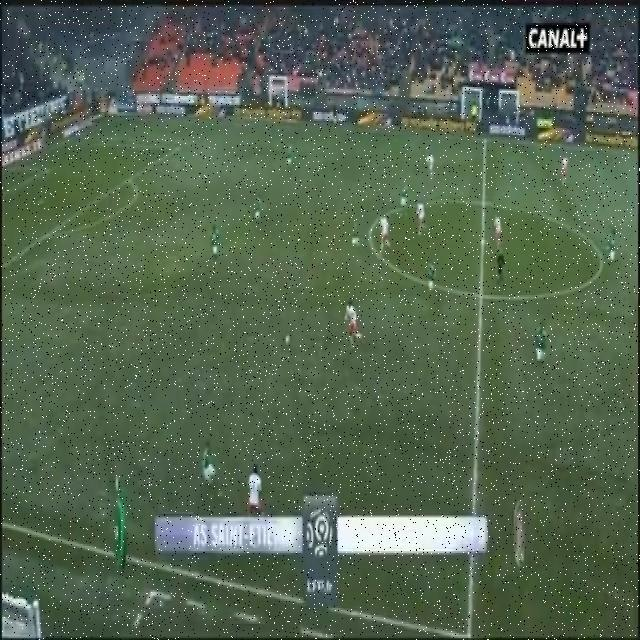ball: (278, 331, 298, 368)
player: (339, 288, 380, 378), (600, 199, 630, 303), (202, 202, 233, 280), (526, 313, 550, 395), (196, 438, 223, 507), (249, 169, 272, 245), (278, 133, 304, 192), (249, 446, 268, 524), (419, 258, 445, 312), (422, 138, 444, 194), (554, 141, 572, 204), (376, 204, 396, 260), (490, 205, 510, 253), (398, 179, 414, 229), (346, 222, 364, 266), (415, 194, 431, 232)
referee: (494, 238, 514, 292)
